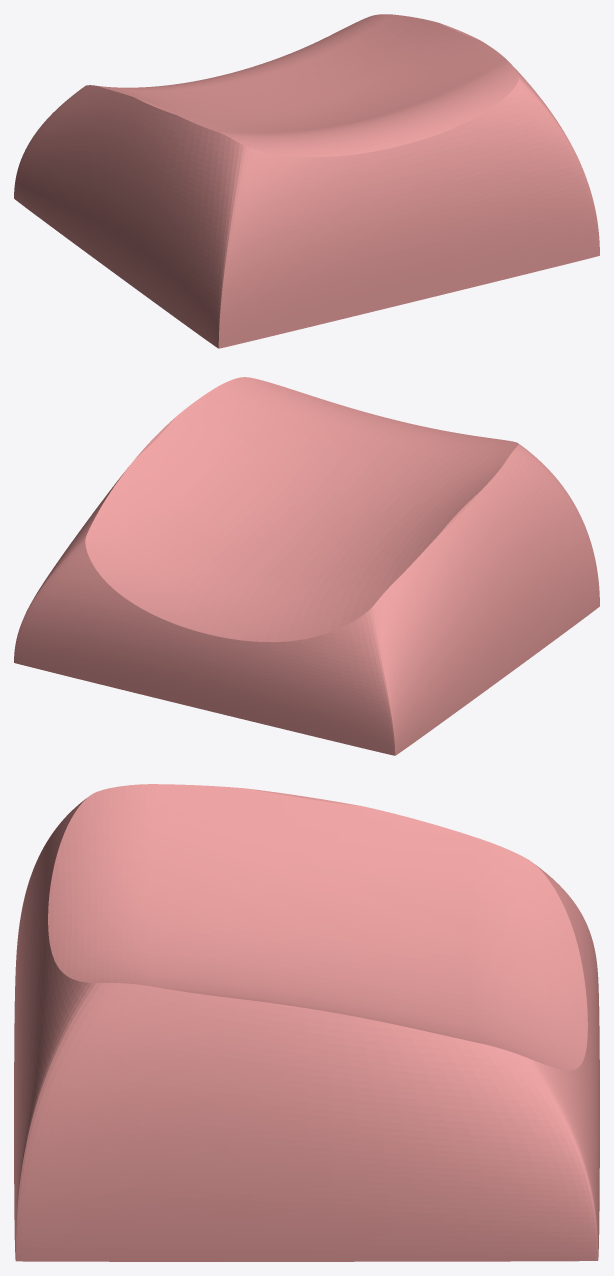
File: MX-Chicago-Steno-R5.gltf
The picture shows the model from 3 angles, top to bottom: view 1: azimuth 30°, elevation 25°; view 2: azimuth 150°, elevation 25°; view 3: azimuth 270°, elevation 25°; orthographic projection. The views are drawn at different scales.
Visible parts, largest first — view 1: object 1; view 2: object 1; view 3: object 1.
Part boxes in pixels (x1,y1,x2,y2): object 1: (14, 14, 599, 348); object 1: (14, 377, 599, 755); object 1: (14, 784, 599, 1261).
Size of the model in its own units: 1.73 by 0.851 by 1.61.
